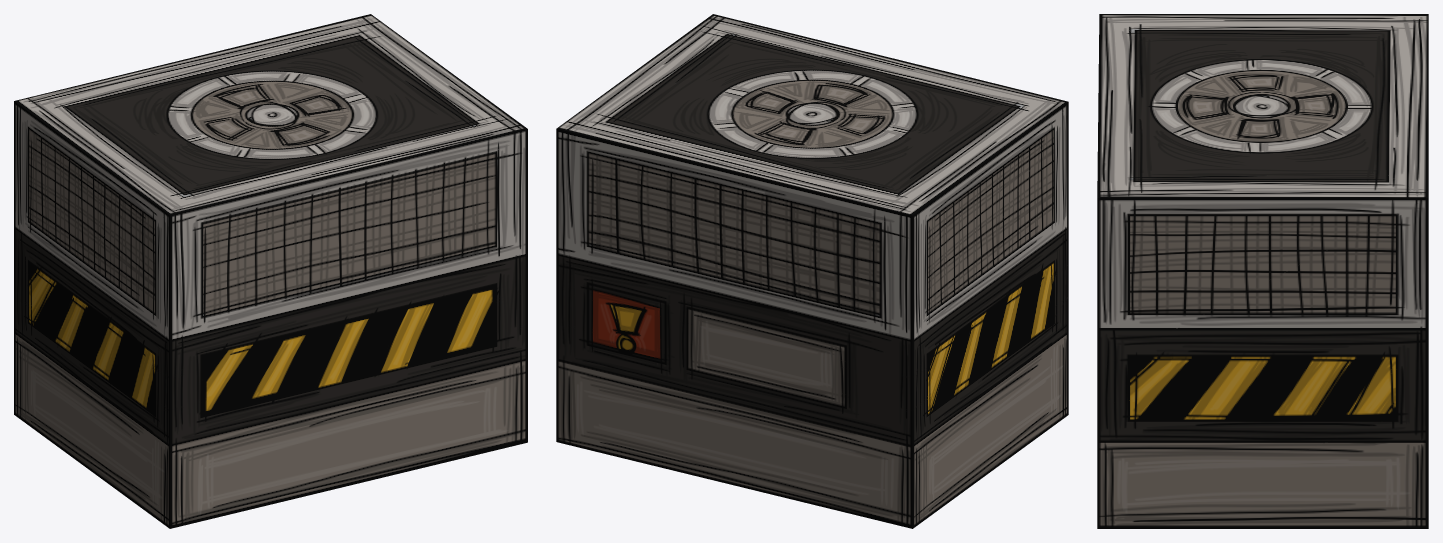
The model's file is SmallGenerator.fbx.
3 views of the same model, side by side, from view 1: azimuth 30°, elevation 25°; view 2: azimuth 150°, elevation 25°; view 3: azimuth 270°, elevation 25° (orthographic). The views are drawn at different scales.
Visible parts, largest first — view 1: SmallGenerator; view 2: SmallGenerator; view 3: SmallGenerator.
Part boxes in pixels (x1,y1,x2,y2): SmallGenerator: (14, 14, 527, 528); SmallGenerator: (556, 14, 1068, 528); SmallGenerator: (1097, 14, 1428, 528).
Bounding box in the file's own units: 256 × 215 × 195.
